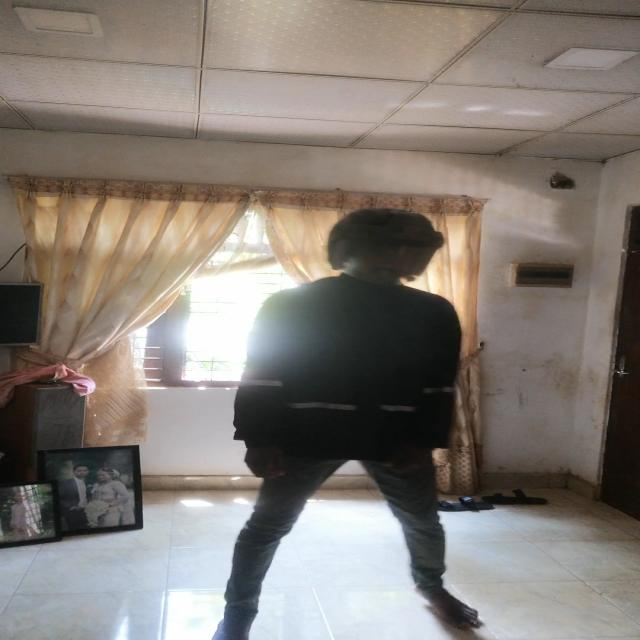Helmet_Wearer: (310, 203, 450, 297)
Jacket_Wearer: (225, 273, 476, 486)
Person: (218, 204, 474, 640)
